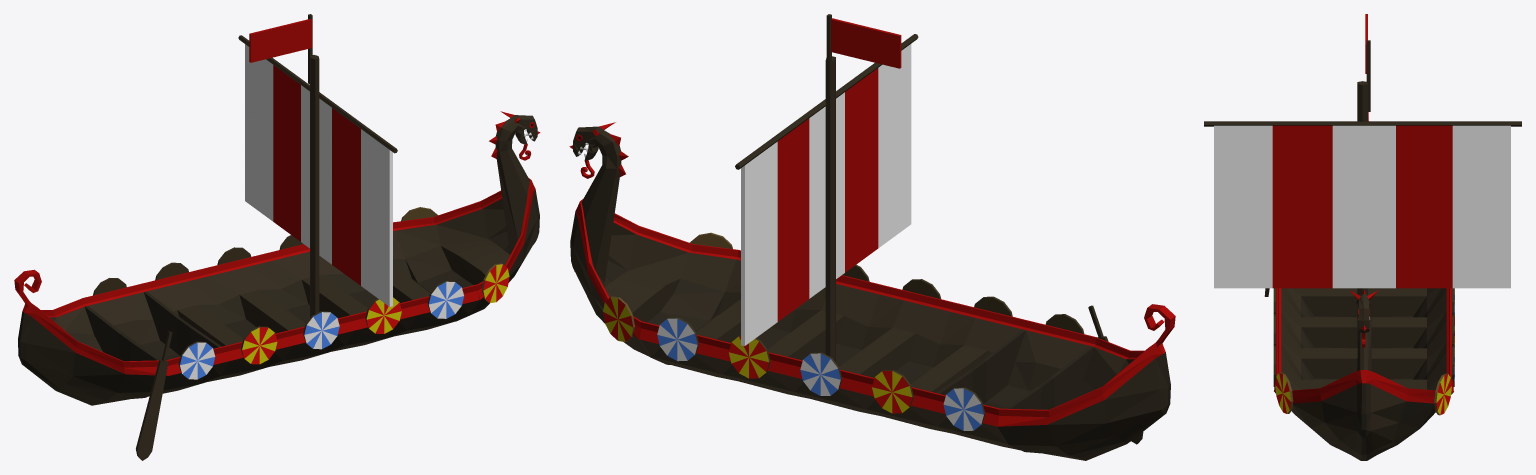
Rendered from Ship_05.fbx.
3 views of the same model, side by side, from view 1: azimuth 30°, elevation 25°; view 2: azimuth 150°, elevation 25°; view 3: azimuth 270°, elevation 25° (orthographic). The views are drawn at different scales.
Visible parts, largest first — view 1: Ship_05, Sail, Flag, Rudder; view 2: Ship_05, Sail, Flag; view 3: Sail, Ship_05.
Part boxes in pixels (<box>): Ship_05: <box>14,14,540,405</box>; Sail: <box>245,44,392,306</box>; Flag: <box>249,19,312,62</box>; Rudder: <box>136,331,172,460</box>; Ship_05: <box>569,14,1175,460</box>; Sail: <box>741,44,911,345</box>; Flag: <box>831,18,901,68</box>; Sail: <box>1214,125,1510,288</box>; Ship_05: <box>1204,40,1521,460</box>.
Bounding box in the file's own units: 3202 × 2076 × 1640.
